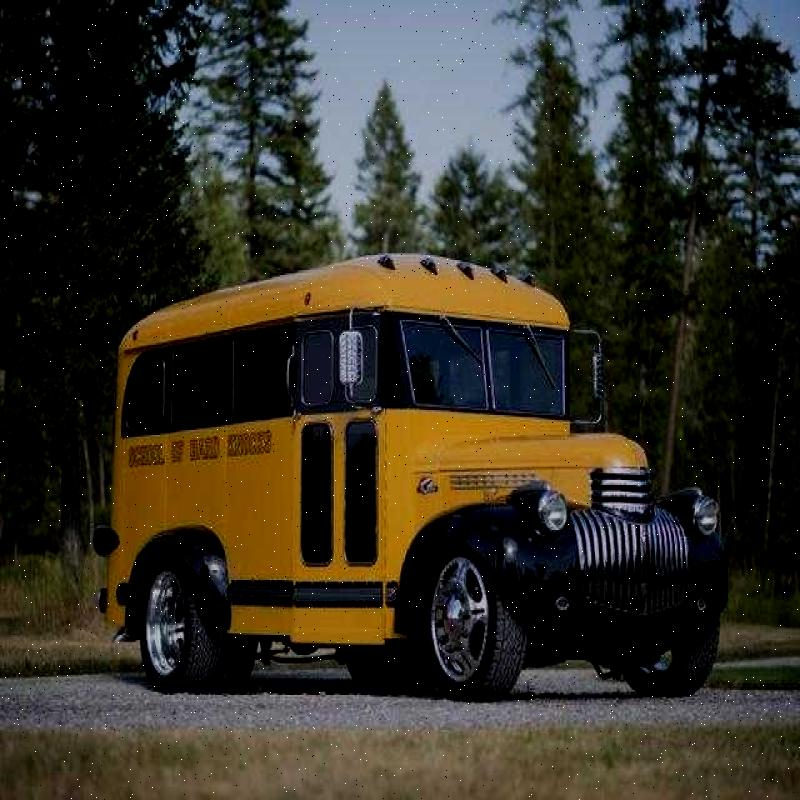bus: (69, 217, 734, 734)
